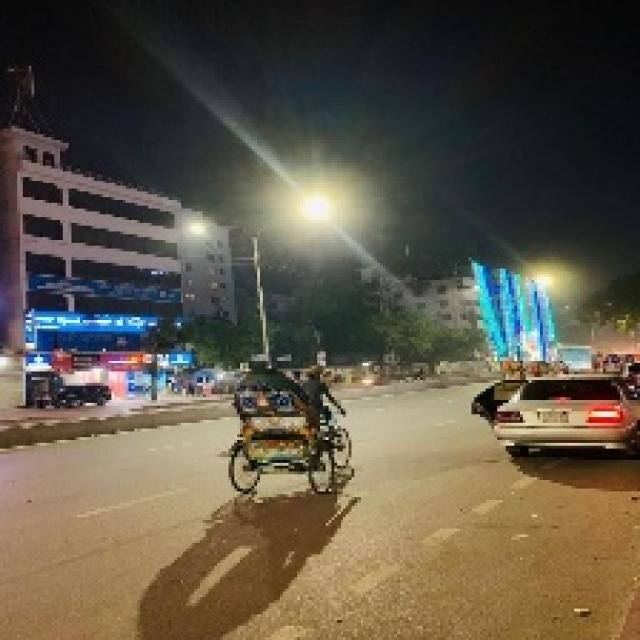car: (480, 355, 635, 468), (27, 379, 114, 412)
rickshaw: (222, 370, 341, 503)
